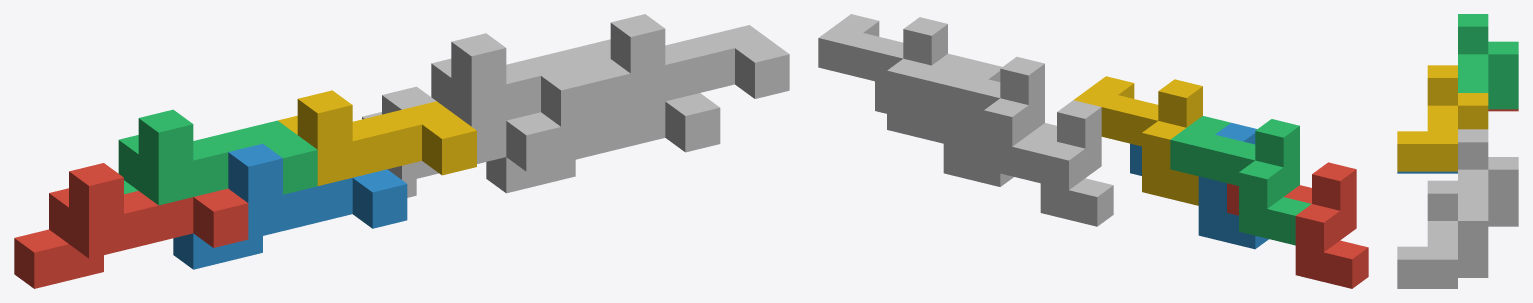
File: tiling.obj
3 renders of one model, left to right at view 1: azimuth 30°, elevation 25°; view 2: azimuth 150°, elevation 25°; view 3: azimuth 270°, elevation 25°, orthographic. The views are drawn at different scales.
Visible parts, largest first — view 1: copy_1_domain_1, copy_1_domain_4, copy_1_domain_8, copy_1_domain_6, copy_1_domain_2, copy_1_domain_3, copy_1_domain_7, copy_1_domain_5; view 2: copy_1_domain_7, copy_1_domain_3, copy_1_domain_8, copy_1_domain_4, copy_1_domain_1, copy_1_domain_5, copy_1_domain_2, copy_1_domain_6; view 3: copy_1_domain_8, copy_1_domain_4, copy_1_domain_3, copy_1_domain_7, copy_1_domain_6, copy_1_domain_2, copy_1_domain_1.
Boxes of the visible parts, left/top/right/bottom form: copy_1_domain_1: left=14, top=163, right=248, bottom=288; copy_1_domain_4: left=278, top=90, right=476, bottom=185; copy_1_domain_8: left=590, top=14, right=789, bottom=109; copy_1_domain_6: left=486, top=67, right=720, bottom=193; copy_1_domain_2: left=173, top=143, right=407, bottom=269; copy_1_domain_3: left=118, top=109, right=317, bottom=205; copy_1_domain_7: left=431, top=33, right=630, bottom=128; copy_1_domain_5: left=362, top=86, right=560, bottom=197; copy_1_domain_7: left=915, top=53, right=1056, bottom=183; copy_1_domain_3: left=1170, top=116, right=1311, bottom=245; copy_1_domain_8: left=818, top=14, right=947, bottom=143; copy_1_domain_4: left=1073, top=76, right=1202, bottom=205; copy_1_domain_1: left=1227, top=162, right=1368, bottom=288; copy_1_domain_5: left=972, top=100, right=1113, bottom=226; copy_1_domain_2: left=1130, top=122, right=1268, bottom=249; copy_1_domain_6: left=875, top=60, right=1013, bottom=186; copy_1_domain_8: left=1397, top=180, right=1488, bottom=286; copy_1_domain_4: left=1397, top=65, right=1488, bottom=171; copy_1_domain_3: left=1458, top=14, right=1518, bottom=109; copy_1_domain_7: left=1458, top=129, right=1518, bottom=224; copy_1_domain_6: left=1397, top=276, right=1488, bottom=288; copy_1_domain_2: left=1397, top=171, right=1457, bottom=173; copy_1_domain_1: left=1488, top=109, right=1518, bottom=111.
Size of the model in its own units: 20 by 4 by 4.
